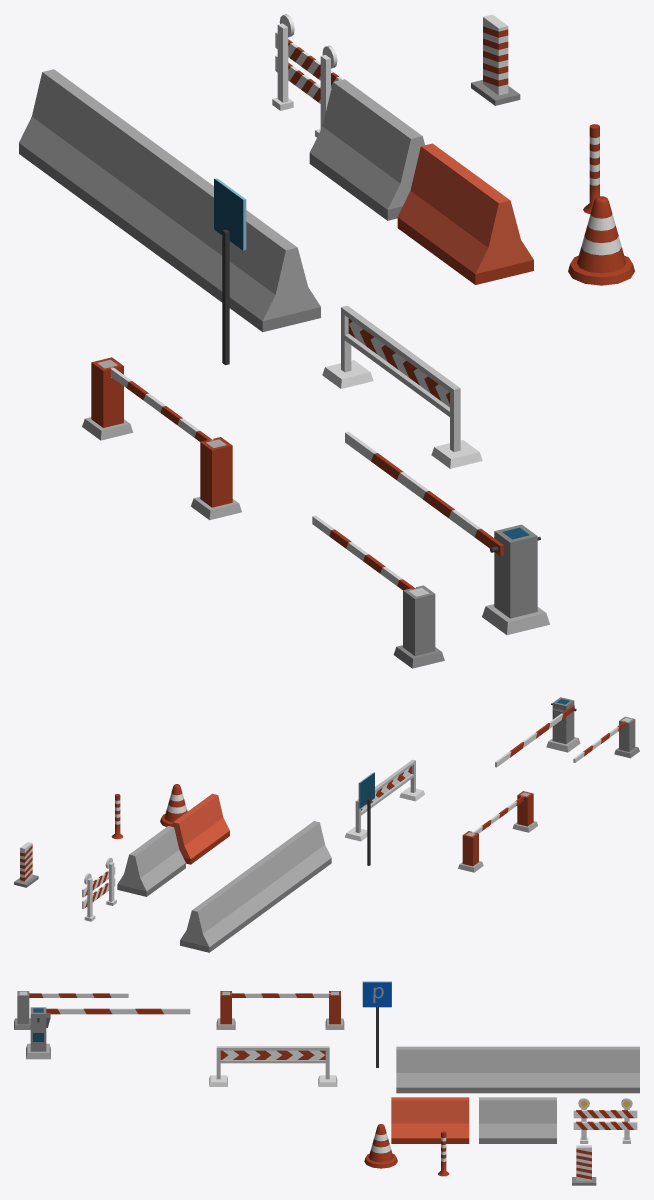
File: Obstacles1.FBX
3 renders of one model, top to bottom at view 1: azimuth 30°, elevation 25°; view 2: azimuth 150°, elevation 25°; view 3: azimuth 270°, elevation 25°, orthographic. The views are drawn at different scales.
Visible parts, largest first — view 1: Box023, Box027, Box026, Box029, Box031, Box033, Box025, Cone002, Box036, Box028, Cylinder004, Box034 (+3 smaller); view 2: Box023, Box026, Box027, Box031, Box029, Box033, Box025, Box036, Cone002, Box028, Cylinder004, Box034; view 3: Box023, Box026, Box027, Box029, Box025, Box031, Box033, Cylinder004, Cone002, Box034, Box028, Box036 (+1 smaller).
Part boxes in pixels (<box>): Box023: <box>19,69,320,332</box>; Box027: <box>397,143,533,284</box>; Box026: <box>309,79,424,220</box>; Box029: <box>322,305,482,468</box>; Box031: <box>82,357,241,520</box>; Box033: <box>482,524,549,634</box>; Box025: <box>272,14,341,137</box>; Cone002: <box>568,196,634,285</box>; Box036: <box>393,585,444,668</box>; Box028: <box>471,14,520,105</box>; Cylinder004: <box>345,431,540,555</box>; Box034: <box>214,178,246,250</box>; Box023: <box>180,821,331,952</box>; Box026: <box>117,826,185,896</box>; Box027: <box>172,793,229,864</box>; Box031: <box>458,791,537,872</box>; Box029: <box>345,759,424,841</box>; Box033: <box>546,697,580,752</box>; Box025: <box>82,857,116,921</box>; Box036: <box>614,716,639,758</box>; Cone002: <box>160,784,187,826</box>; Box028: <box>14,842,38,887</box>; Cylinder004: <box>495,703,576,767</box>; Box034: <box>358,772,374,808</box>; Box023: <box>396,1046,639,1093</box>; Box026: <box>479,1097,556,1143</box>; Box027: <box>391,1097,469,1143</box>; Box029: <box>209,1046,337,1086</box>; Box025: <box>573,1098,637,1143</box>; Box031: <box>216,991,344,1029</box>; Box033: <box>26,1007,50,1059</box>; Cylinder004: <box>37,1008,190,1022</box>; Cone002: <box>364,1124,397,1168</box>; Box034: <box>362,981,391,1007</box>; Box028: <box>572,1145,596,1185</box>; Box036: <box>14,991,30,1029</box>.
Size of the model in its own units: 110 by 27.81 by 178.
Materials: 2 (1 with a texture image).
